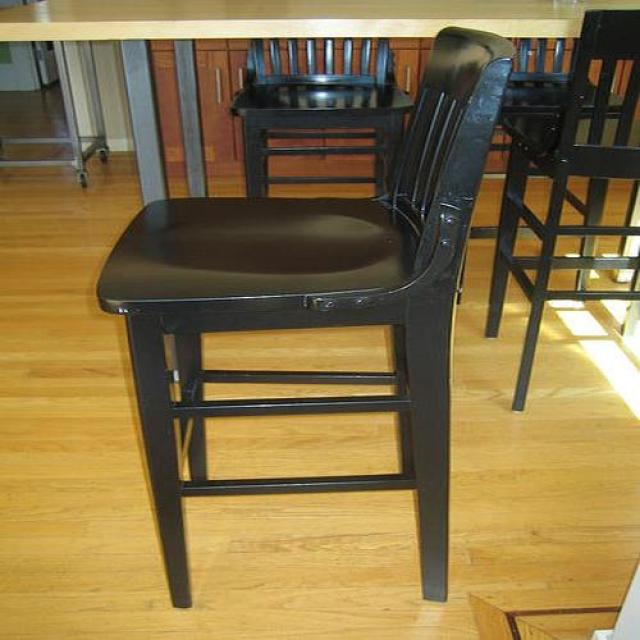chair: (95, 28, 513, 612)
